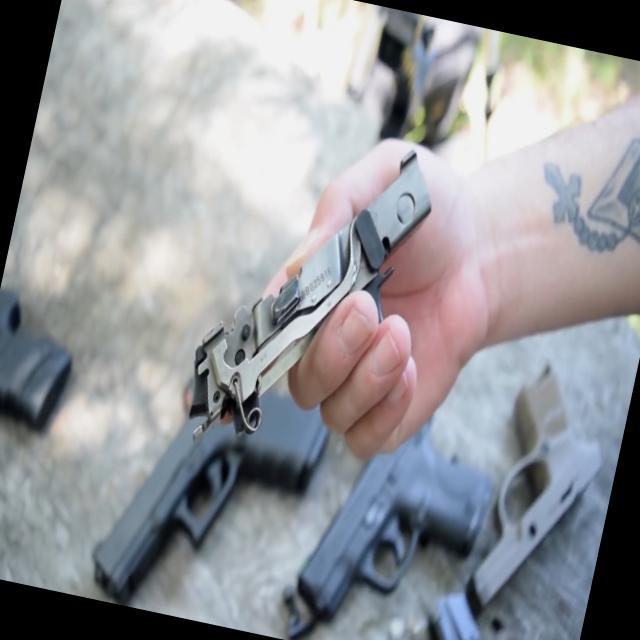handgun: (84, 320, 353, 639), (267, 404, 516, 639), (462, 338, 612, 626)
